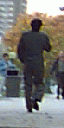person: (18, 15, 49, 110)
